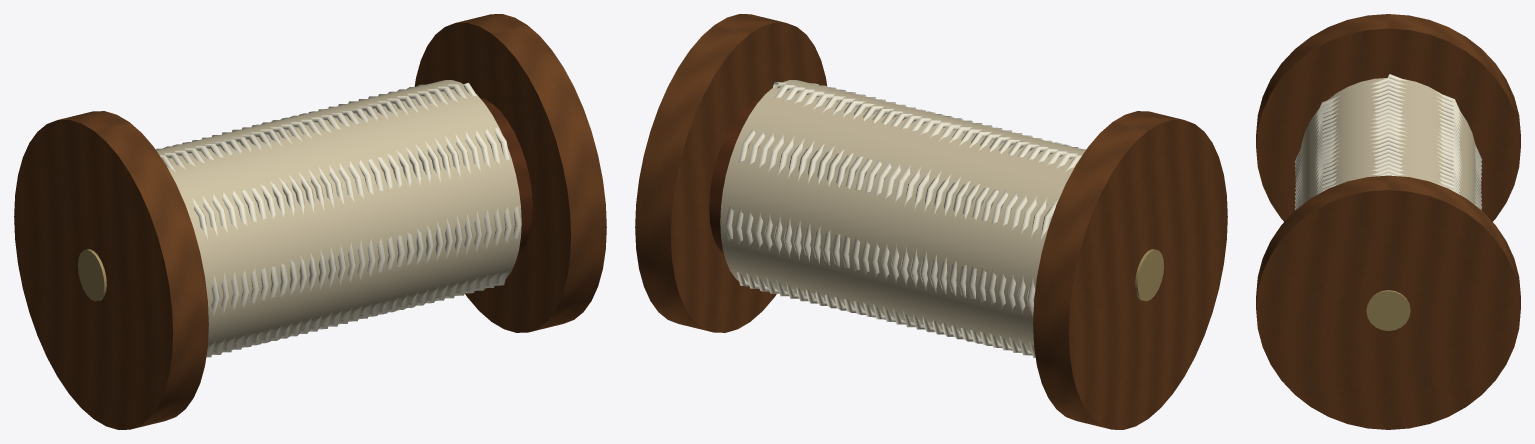
File: spool.glb
3 views of the same model, side by side, from view 1: azimuth 30°, elevation 25°; view 2: azimuth 150°, elevation 25°; view 3: azimuth 270°, elevation 25° (orthographic). The views are drawn at different scales.
Visible parts, largest first — view 1: WoundString, EndCap, EndCap.001, StringWinding, SpoolBody, EndPin; view 2: WoundString, EndCap, EndCap.001, StringWinding, SpoolBody, EndPin; view 3: EndCap.001, EndCap, WoundString, StringWinding, EndPin.001.
Part boxes in pixels (left/top/right/bottom): WoundString: left=156, top=80, right=521, bottom=352; EndCap: left=14, top=111, right=208, bottom=429; EndCap.001: left=414, top=14, right=606, bottom=332; StringWinding: left=155, top=82, right=521, bottom=357; SpoolBody: left=480, top=98, right=532, bottom=253; EndPin: left=78, top=249, right=106, bottom=301; WoundString: left=720, top=80, right=1085, bottom=353; EndCap: left=1033, top=111, right=1227, bottom=429; EndCap.001: left=635, top=14, right=827, bottom=332; StringWinding: left=725, top=82, right=1086, bottom=357; SpoolBody: left=709, top=98, right=761, bottom=253; EndPin: left=1135, top=249, right=1163, bottom=301; EndCap.001: left=1256, top=175, right=1520, bottom=429; EndCap: left=1256, top=14, right=1520, bottom=221; WoundString: left=1301, top=78, right=1475, bottom=205; StringWinding: left=1294, top=74, right=1482, bottom=210; EndPin.001: left=1366, top=290, right=1410, bottom=330.
Bounding box in the file's own units: 0.172 × 0.108 × 0.108.
Materials: 5 (2 with a texture image).
